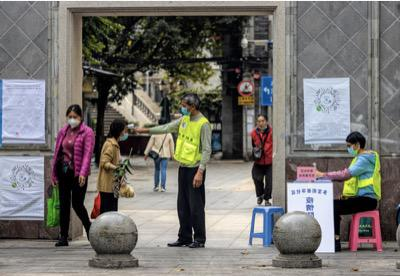mask_weared_incorrect: (257, 118, 266, 128)
with_mask: (67, 113, 80, 127), (180, 101, 190, 116), (119, 127, 129, 140), (347, 143, 356, 156)
